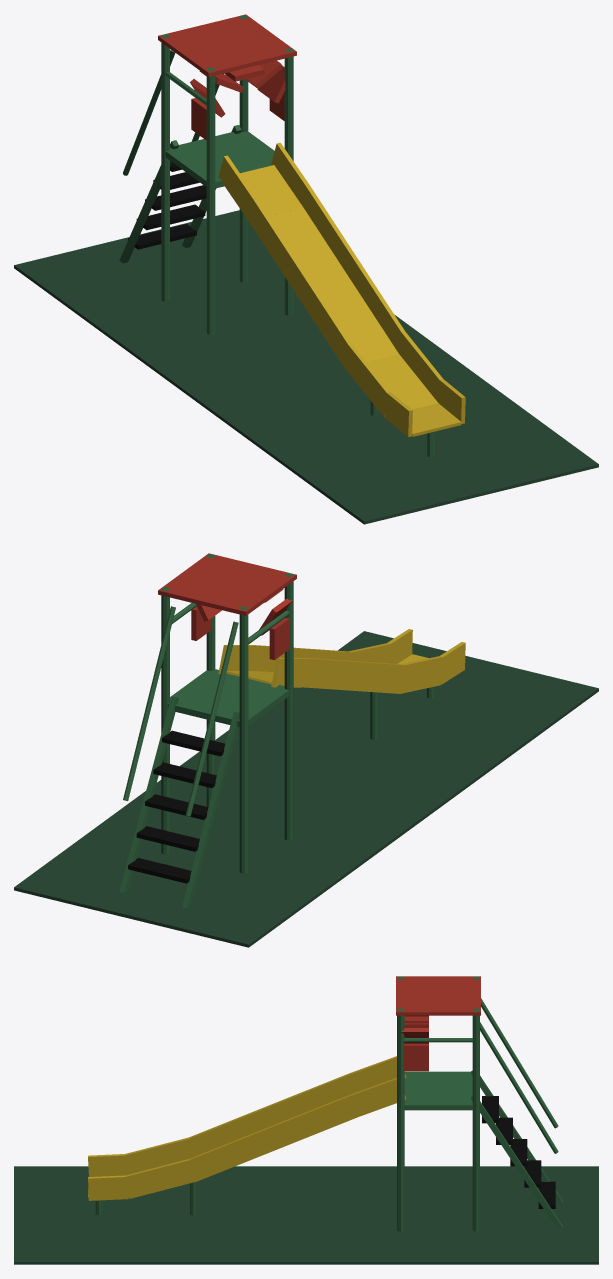
Rendered from sport.play.slide_plastic.glb.
The picture shows the model from 3 angles, top to bottom: view 1: azimuth 30°, elevation 25°; view 2: azimuth 150°, elevation 25°; view 3: azimuth 270°, elevation 25°; orthographic projection. The views are drawn at different scales.
Visible parts, largest first — view 1: main__paint_243, main__paint_ca2, main__paint_364, main__paint_a32, main__rubber; view 2: main__paint_243, main__paint_364, main__paint_ca2, main__paint_a32, main__rubber; view 3: main__paint_243, main__paint_ca2, main__paint_364, main__paint_a32, main__rubber.
Part boxes in pixels (box(x1,y1,x2,y2)): main__paint_243: box(14, 210, 598, 524); main__paint_ca2: box(218, 142, 465, 437); main__paint_364: box(119, 15, 434, 457); main__paint_a32: box(158, 14, 296, 140); main__rubber: box(128, 162, 206, 249); main__paint_243: box(14, 631, 598, 947); main__paint_364: box(119, 554, 434, 908); main__paint_ca2: box(218, 629, 465, 693); main__paint_a32: box(158, 553, 296, 660); main__rubber: box(128, 730, 225, 883); main__paint_243: box(14, 1166, 598, 1264); main__paint_ca2: box(88, 1056, 406, 1200); main__paint_364: box(95, 976, 562, 1231); main__paint_a32: box(396, 976, 480, 1071); main__rubber: box(482, 1096, 555, 1208).
Bounding box in the file's own units: 2.4 × 2.67 × 6.2.
